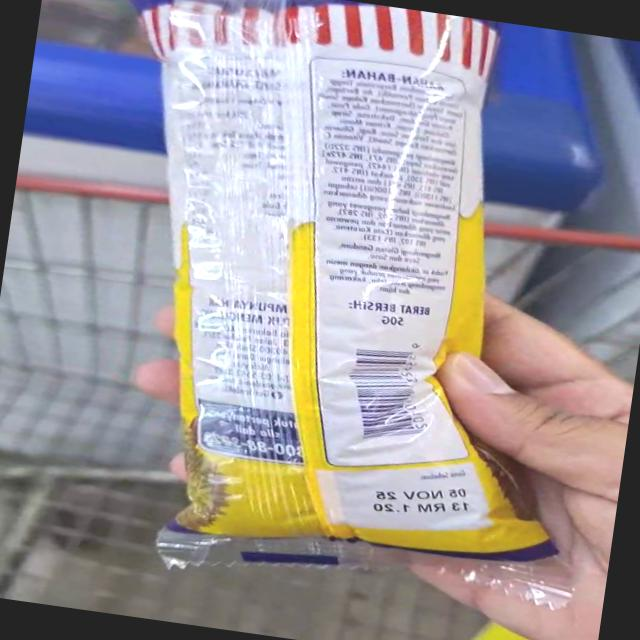Roti: (92, 252, 558, 624), (35, 0, 523, 322), (420, 617, 559, 640)
